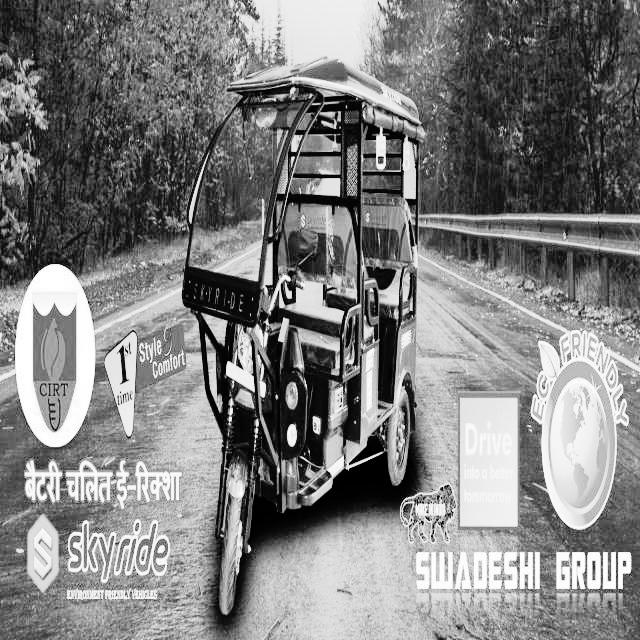Toto: (184, 60, 430, 610)
